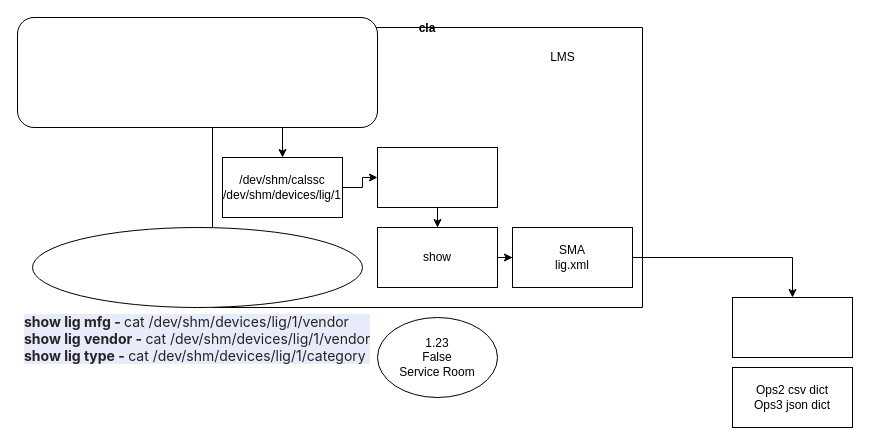
Some shapes in this 870 by 445 pixel diagram are drawn without their labels. Here are the shapes that lost their labels. From the top down, the centre of each, then its label:
At (x=197, y=72): "ClassC monitor binaries".
At (x=437, y=177): "tag_parse".
At (x=197, y=267): "_msg_ptc.log _msg_dp1.log".
At (x=792, y=327): "OpsConsole".
